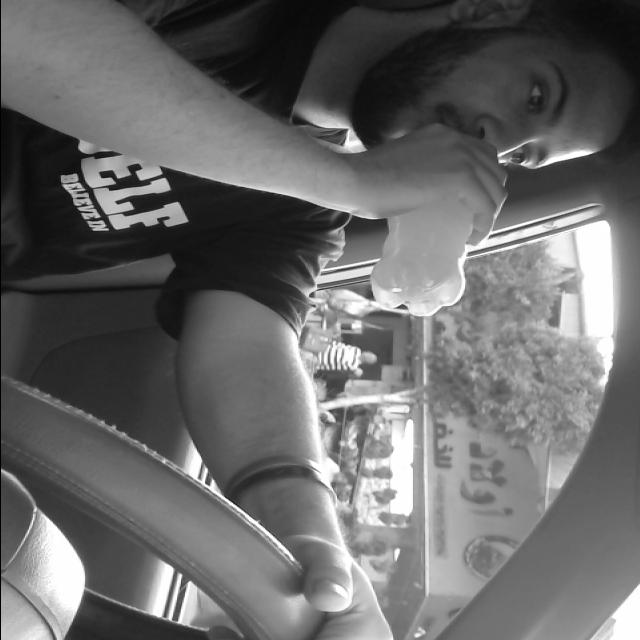drinking: (366, 138, 475, 318)
